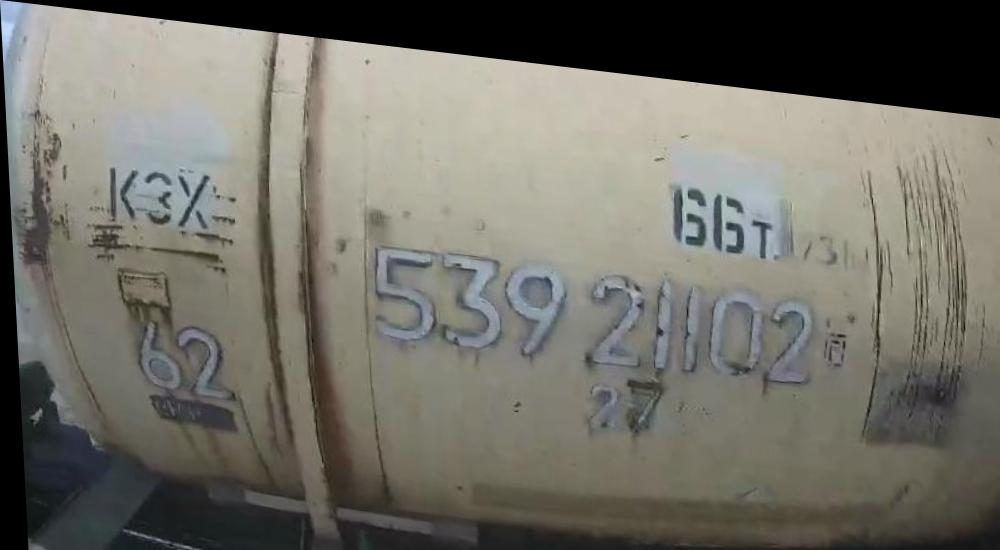Wagon-number: (363, 230, 819, 380)
